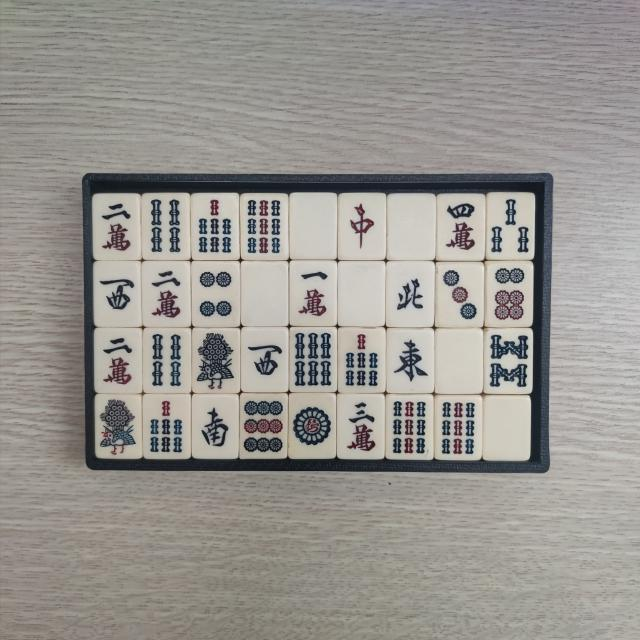hdr: (342, 197, 381, 254)
hdw: (342, 266, 382, 324), (295, 197, 335, 254), (392, 197, 431, 255), (247, 267, 286, 323), (488, 401, 526, 456), (442, 334, 479, 389)
hwe: (390, 332, 430, 390)
hwn: (392, 264, 430, 322)
hws: (198, 400, 234, 454)
hww: (247, 332, 286, 387), (98, 268, 136, 324)
sb1: (196, 330, 237, 390), (98, 398, 138, 458)
sb3: (488, 195, 531, 255)
sb4: (145, 196, 184, 255), (149, 330, 187, 389)
sb6: (294, 330, 334, 388)
sb7: (195, 196, 235, 256), (341, 332, 382, 390), (146, 398, 186, 456)
sb8: (489, 330, 531, 390)
sb9: (247, 197, 286, 257), (439, 398, 478, 457), (391, 398, 430, 456)
sc1: (296, 264, 334, 322)
sc2: (96, 197, 136, 256), (148, 264, 186, 322), (99, 332, 138, 388)
sc3: (340, 398, 380, 456)
sc4: (442, 197, 481, 254)
sd1: (292, 398, 334, 454)
sd3: (441, 266, 481, 324)
sd4: (196, 264, 234, 322)
sd6: (489, 264, 528, 322)
sd9: (244, 398, 286, 456)
